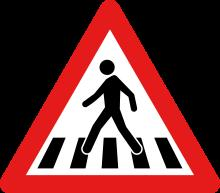Pedestrian Crossing: (11, 8, 212, 186)
